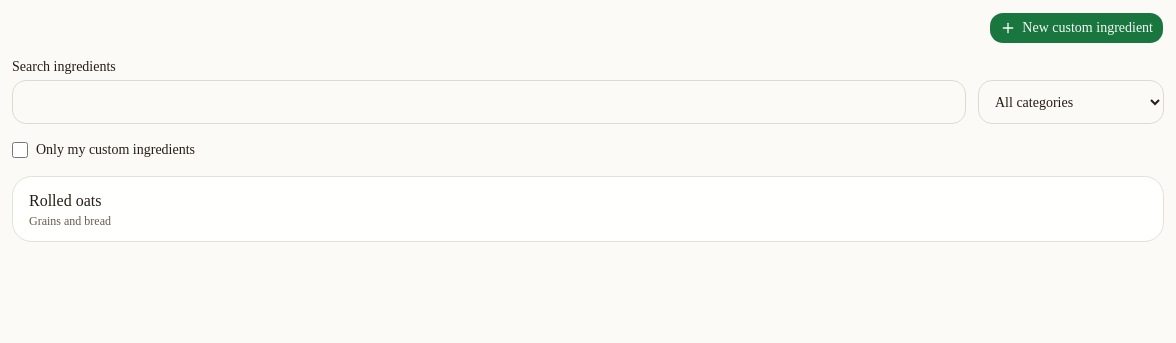
Test: CustomIngredientsPage listing › says so, with a way to make one, when there are no custom ingredients
Expected: the text "Rolled oats" is shown, x1=29 y1=192 x2=101 y2=209
Click the checkbox labelled "Only my custom ingredients". click: (20, 150)
box: x1=12 y1=142 x2=28 y2=158
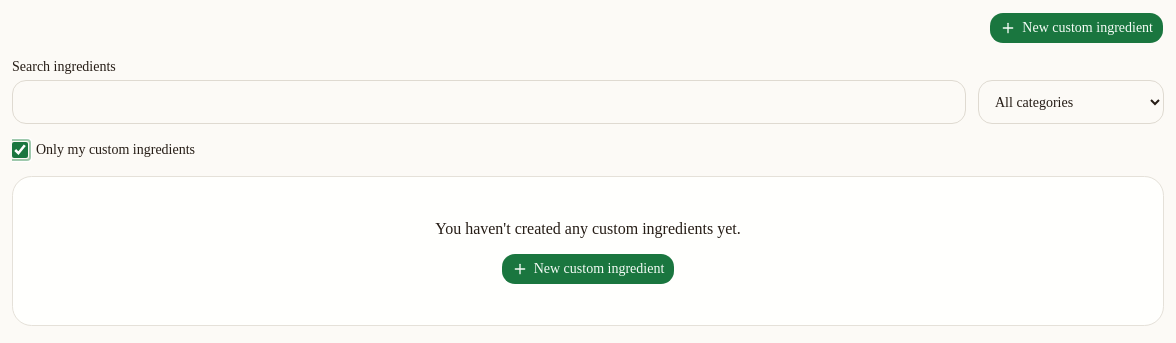
Expected: the text "You haven't created any custom ingredients yet." is shown, x1=435 y1=217 x2=741 y2=241
Expected: the number of buttons "New custom ingredient" is 2, x1=989 y1=12 x2=1164 y2=44; x1=501 y1=253 x2=675 y2=285
